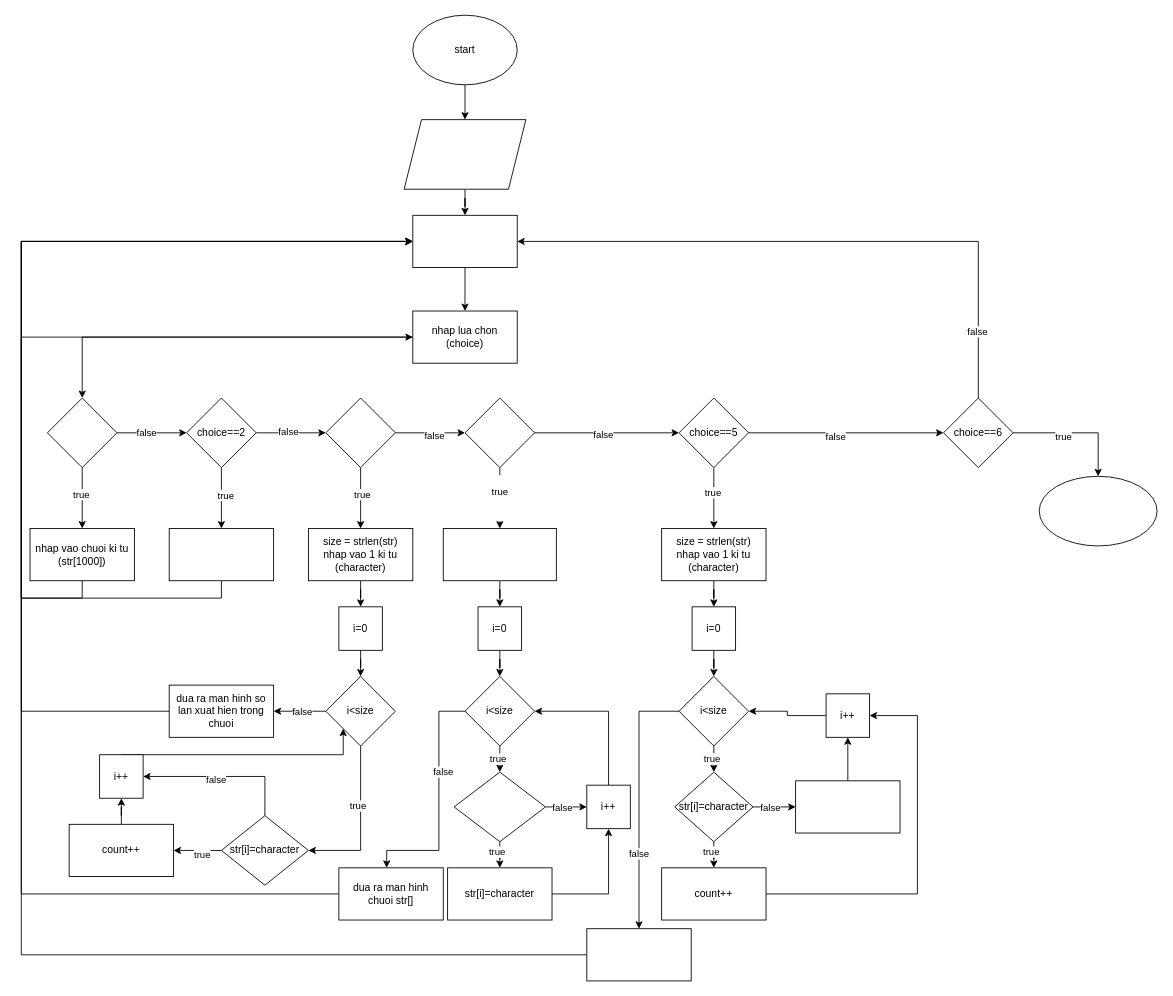
Some shapes in this 1173 by 996 pixel diagram are drawn without their labels. Here are the shapes that lost their labels. From the top down, the box of each, then its label:
(403, 119, 526, 189): i,choice,str[1000] strNew[1000] size character character2
(412, 214, 517, 268): in ra man hinh menu count=0
(47, 397, 117, 468): choice==1
(325, 397, 395, 468): choice==3
(464, 397, 535, 468): choice==4
(1038, 475, 1157, 546): end
(168, 528, 274, 581): in ra man hinh chuoi ki tu va do dai chuoi
(442, 528, 556, 581): size = strlen(str) nhap vao 2 ki tu (character&character2)
(453, 771, 545, 842): str[i]=character2
(795, 780, 900, 833): strNew[i]=str[i-count]
(586, 928, 691, 981): dua ra man hinh chuoi strNew[i]
